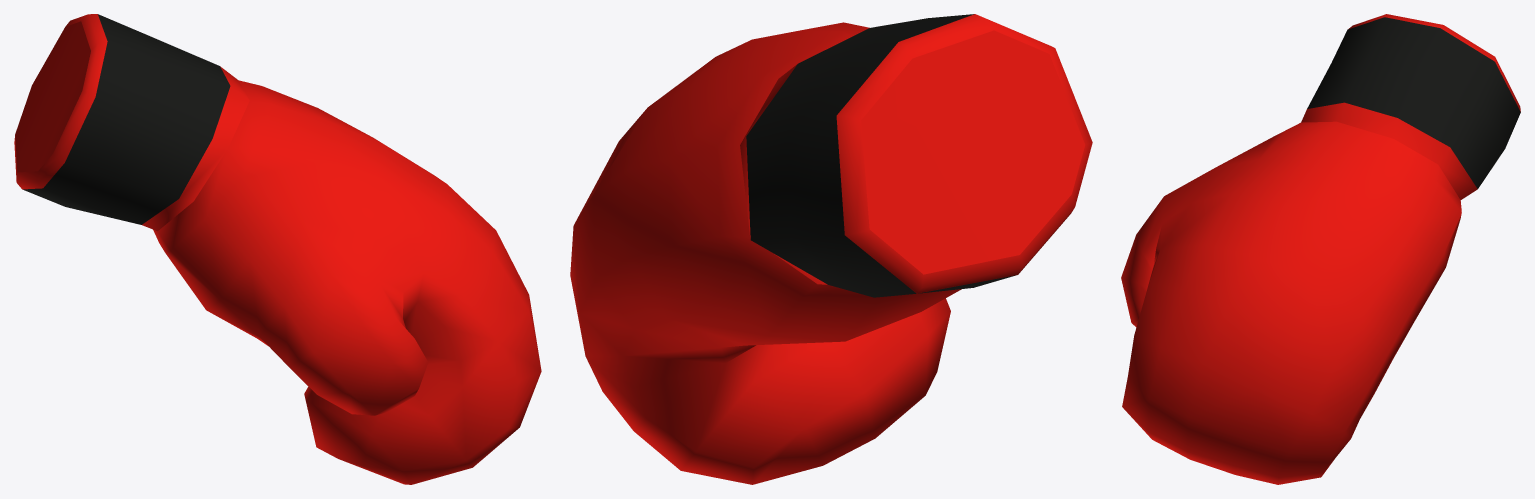
The model's file is boxglove2.fbx.
The picture shows the model from 3 angles, left to right: view 1: azimuth 30°, elevation 25°; view 2: azimuth 150°, elevation 25°; view 3: azimuth 270°, elevation 25°; orthographic projection. The views are drawn at different scales.
Visible parts, largest first — view 1: boxglove1.002; view 2: boxglove1.002; view 3: boxglove1.002.
Part boxes in pixels (<box>): boxglove1.002: <box>14,14,541,484</box>; boxglove1.002: <box>570,14,1092,484</box>; boxglove1.002: <box>1121,14,1520,484</box>.
Size of the model in its own units: 0.4146 by 0.4158 by 0.4143.
